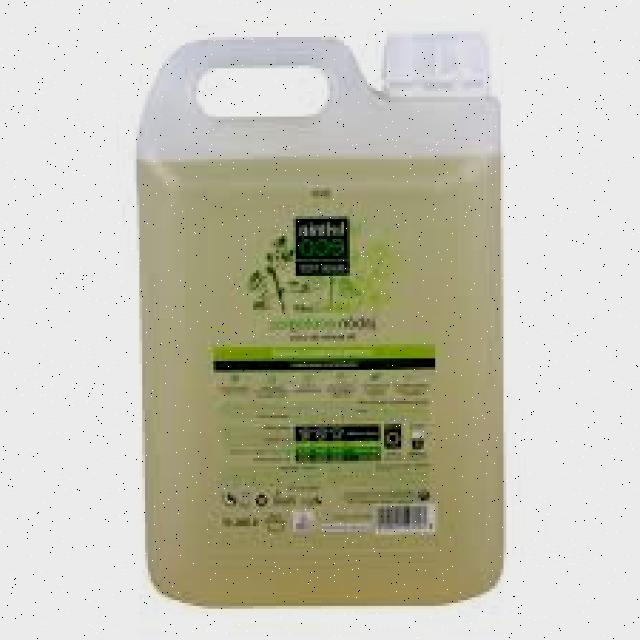liquid soap: (129, 25, 512, 614)
